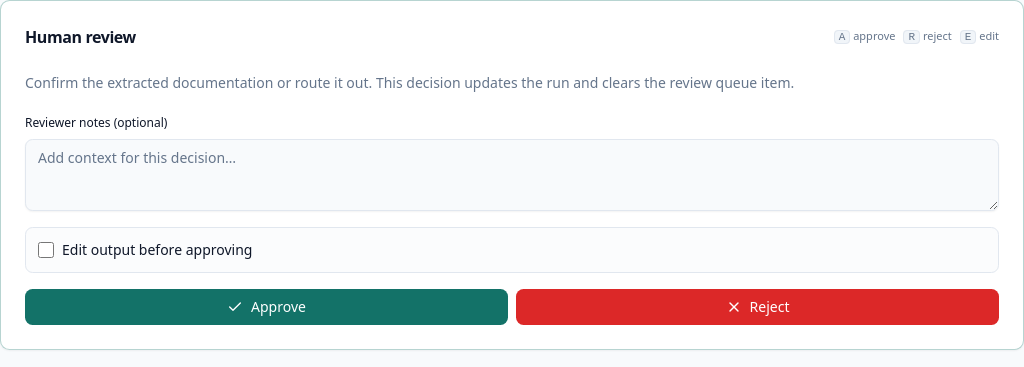
Test case: ReviewActions › approves without edits, sending null notes and no edited output
What coordinates should you click on to do the following:
click the button with aria-label "approve run"
I would click on:
 (266, 307)
Its box is [25, 289, 508, 325].
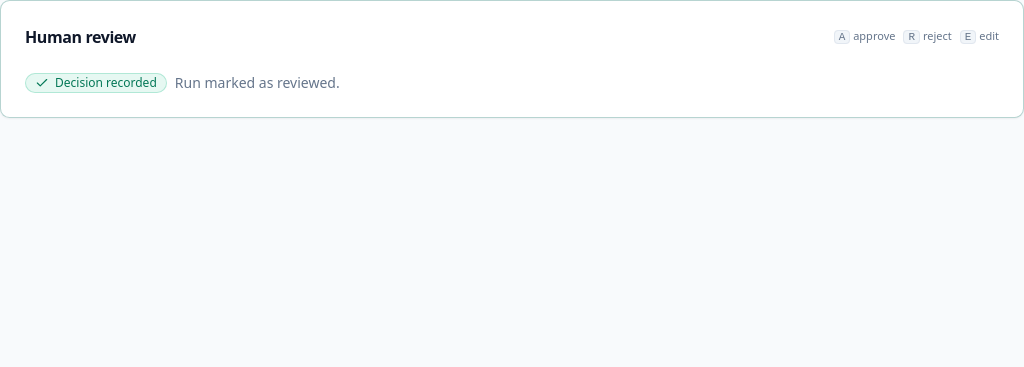
Now the text "Decision recorded" is shown, box [25, 73, 167, 93]
